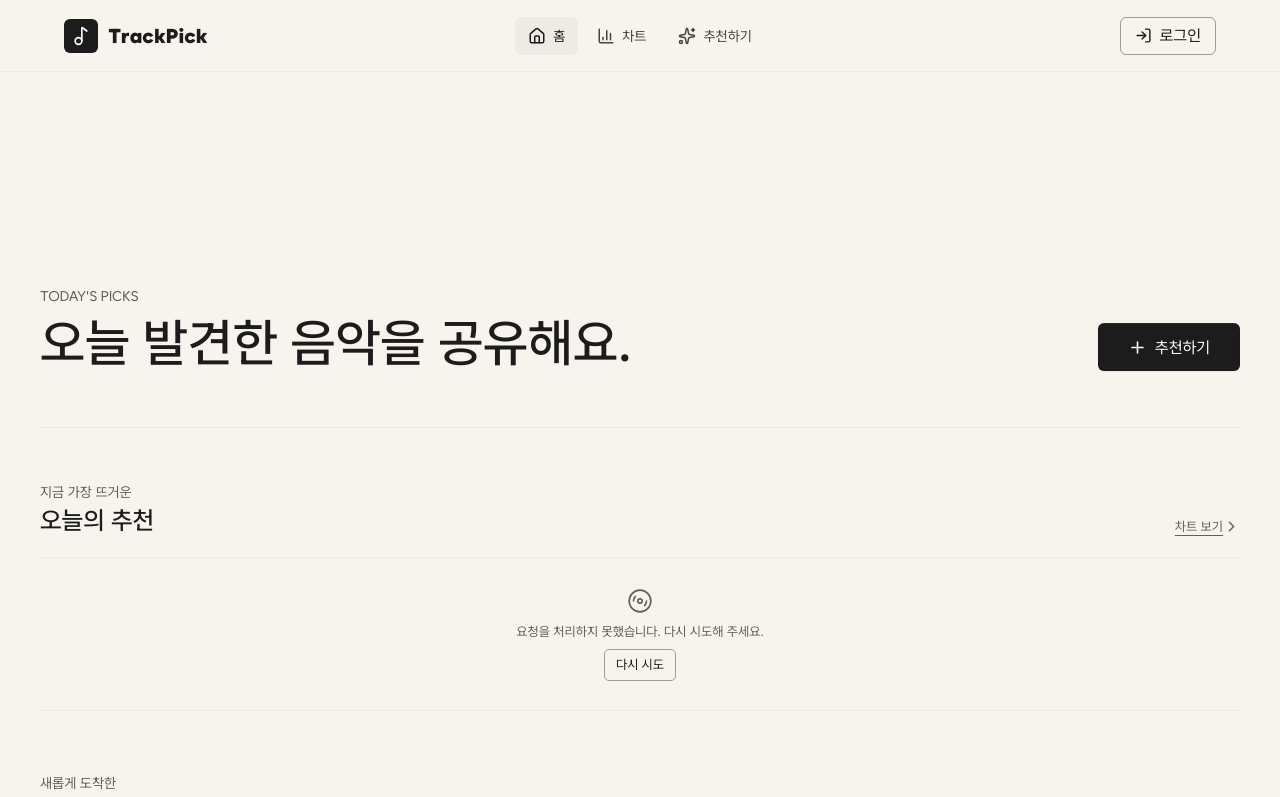
Scenario: TrackPick app shell › moves from home to the chart
The width and height of the screenshot is (1280, 797).
Step 1. Click the link "차트" → (622,36), box [597,26,646,44]
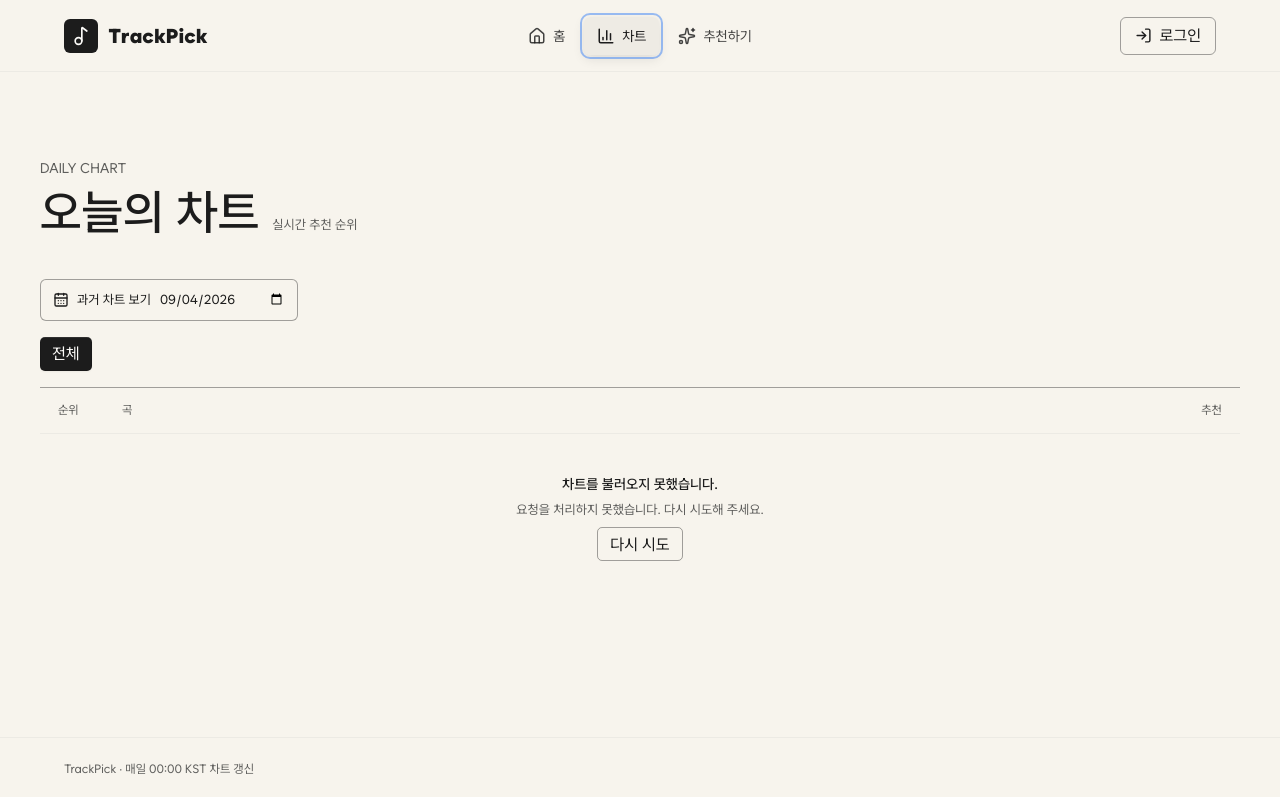
Result: the heading "오늘의 차트" is shown at [40,187,259,239]
